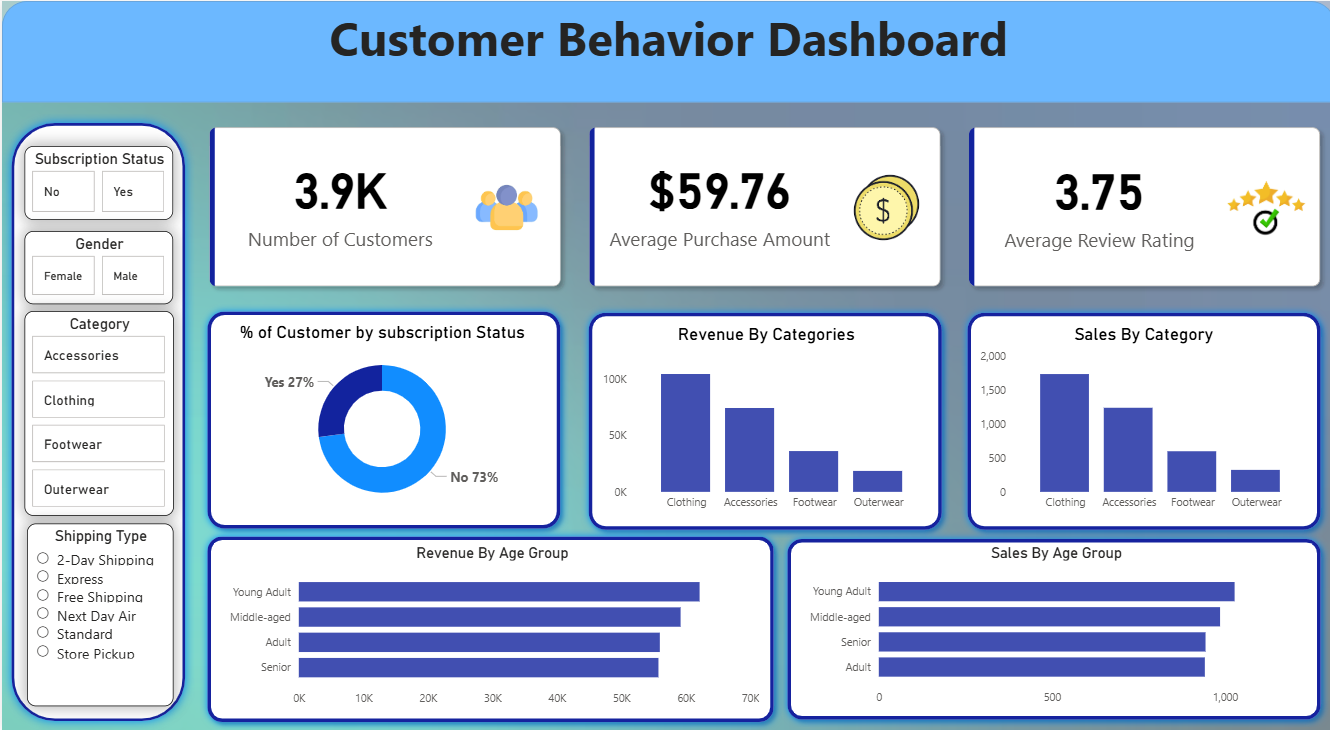

Layout of this report page (visuals, bound fields, positions):
{"tool":"powerbi","page":{"name":"Page 1","canvas":[1500,820],"ordinal":0},"visuals":[{"type":"shape","box":[222,593.5,654.9,226.7],"z":0},{"type":"cardVisual","fields":{"Data":["public customer.Number of Customers","public customer.Average Purchase Amount","public customer.Average Review Rating"]},"box":[217.1,125.4,1283.2,213.9],"z":1000},{"type":"shape","box":[0,0,1500.3,114.2],"z":2000},{"type":"textbox","box":[0,0,1500.3,114.2],"z":3000},{"type":"shape","box":[221.9,340.9,414.9,262.1],"z":4000},{"type":"donutChart","title":"% of Customer by subscription Status","fields":{"Category":["public customer.subscription_status"],"Y":["CountNonNull(public customer.customer_id)"]},"box":[246,361.8,363.4,218.7],"z":5000},{"type":"shape","box":[651.7,341.4,415.1,262.1],"z":6000},{"type":"shape","box":[1076.7,341.4,415.1,262.1],"z":7000},{"type":"clusteredColumnChart","title":"Revenue By Categories","fields":{"Y":["Sum(public customer.purchase_amount)"],"Category":["public customer.category"]},"box":[670.1,364.1,378.3,218.2],"z":8000},{"type":"clusteredColumnChart","title":"Sales By Category","fields":{"Y":["CountNonNull(public customer.customer_id)"],"Category":["public customer.category"]},"box":[1095.1,364.1,378.3,218.2],"z":9000},{"type":"shape","box":[0,126.1,216.8,694.2],"z":10000},{"type":"advancedSlicerVisual","title":"Subscription Status","fields":{"Values":["public customer.subscription_status"]},"box":[25.5,162.9,167.2,83.6],"z":11000},{"type":"advancedSlicerVisual","title":"Gender","fields":{"Values":["public customer.gender"]},"box":[25.5,259.3,167.2,82.2],"z":12000},{"type":"advancedSlicerVisual","title":"Category","fields":{"Values":["public customer.category"]},"box":[25.2,349.4,167.7,230.6],"z":13000},{"type":"listSlicer","title":"Shipping Type","fields":{"Values":["public customer.shipping_type"]},"box":[27.9,588.3,164.9,205.4],"z":14000},{"type":"clusteredBarChart","title":"Revenue By Age Group","fields":{"Category":["public customer.age_group"],"Y":["Sum(public customer.purchase_amount)"]},"box":[245.6,610.8,610.8,192.1],"z":15000},{"type":"shape","box":[874.1,596.4,617.7,221],"z":16000},{"type":"clusteredBarChart","title":"Sales By Age Group","fields":{"Category":["public customer.age_group"],"Y":["CountNonNull(public customer.customer_id)"]},"box":[898.2,610.6,575.2,191.3],"z":17000}]}

Visuals, with their boxes in screenshot pixels (x1, y1, x2, y2), scaled from the page's 1500x820 canvas onto the 1330x730 screenshot:
shape: 197:528:778:729
cardVisual - public customer.Number of Customers x public customer.Average Purchase Amount: 192:112:1329:302
shape: 0:0:1329:102
textbox: 0:0:1329:102
shape: 197:303:565:537
"% of Customer by subscription Status" donutChart: 218:322:540:517
shape: 578:304:946:537
shape: 955:304:1323:537
"Revenue By Categories" clusteredColumnChart: 594:324:930:518
"Sales By Category" clusteredColumnChart: 971:324:1306:518
shape: 0:112:192:729
"Subscription Status" advancedSlicerVisual: 23:145:171:219
"Gender" advancedSlicerVisual: 23:231:171:304
"Category" advancedSlicerVisual: 22:311:171:516
"Shipping Type" listSlicer: 25:524:171:707
"Revenue By Age Group" clusteredBarChart: 218:544:759:715
shape: 775:531:1323:728
"Sales By Age Group" clusteredBarChart: 796:544:1306:714
